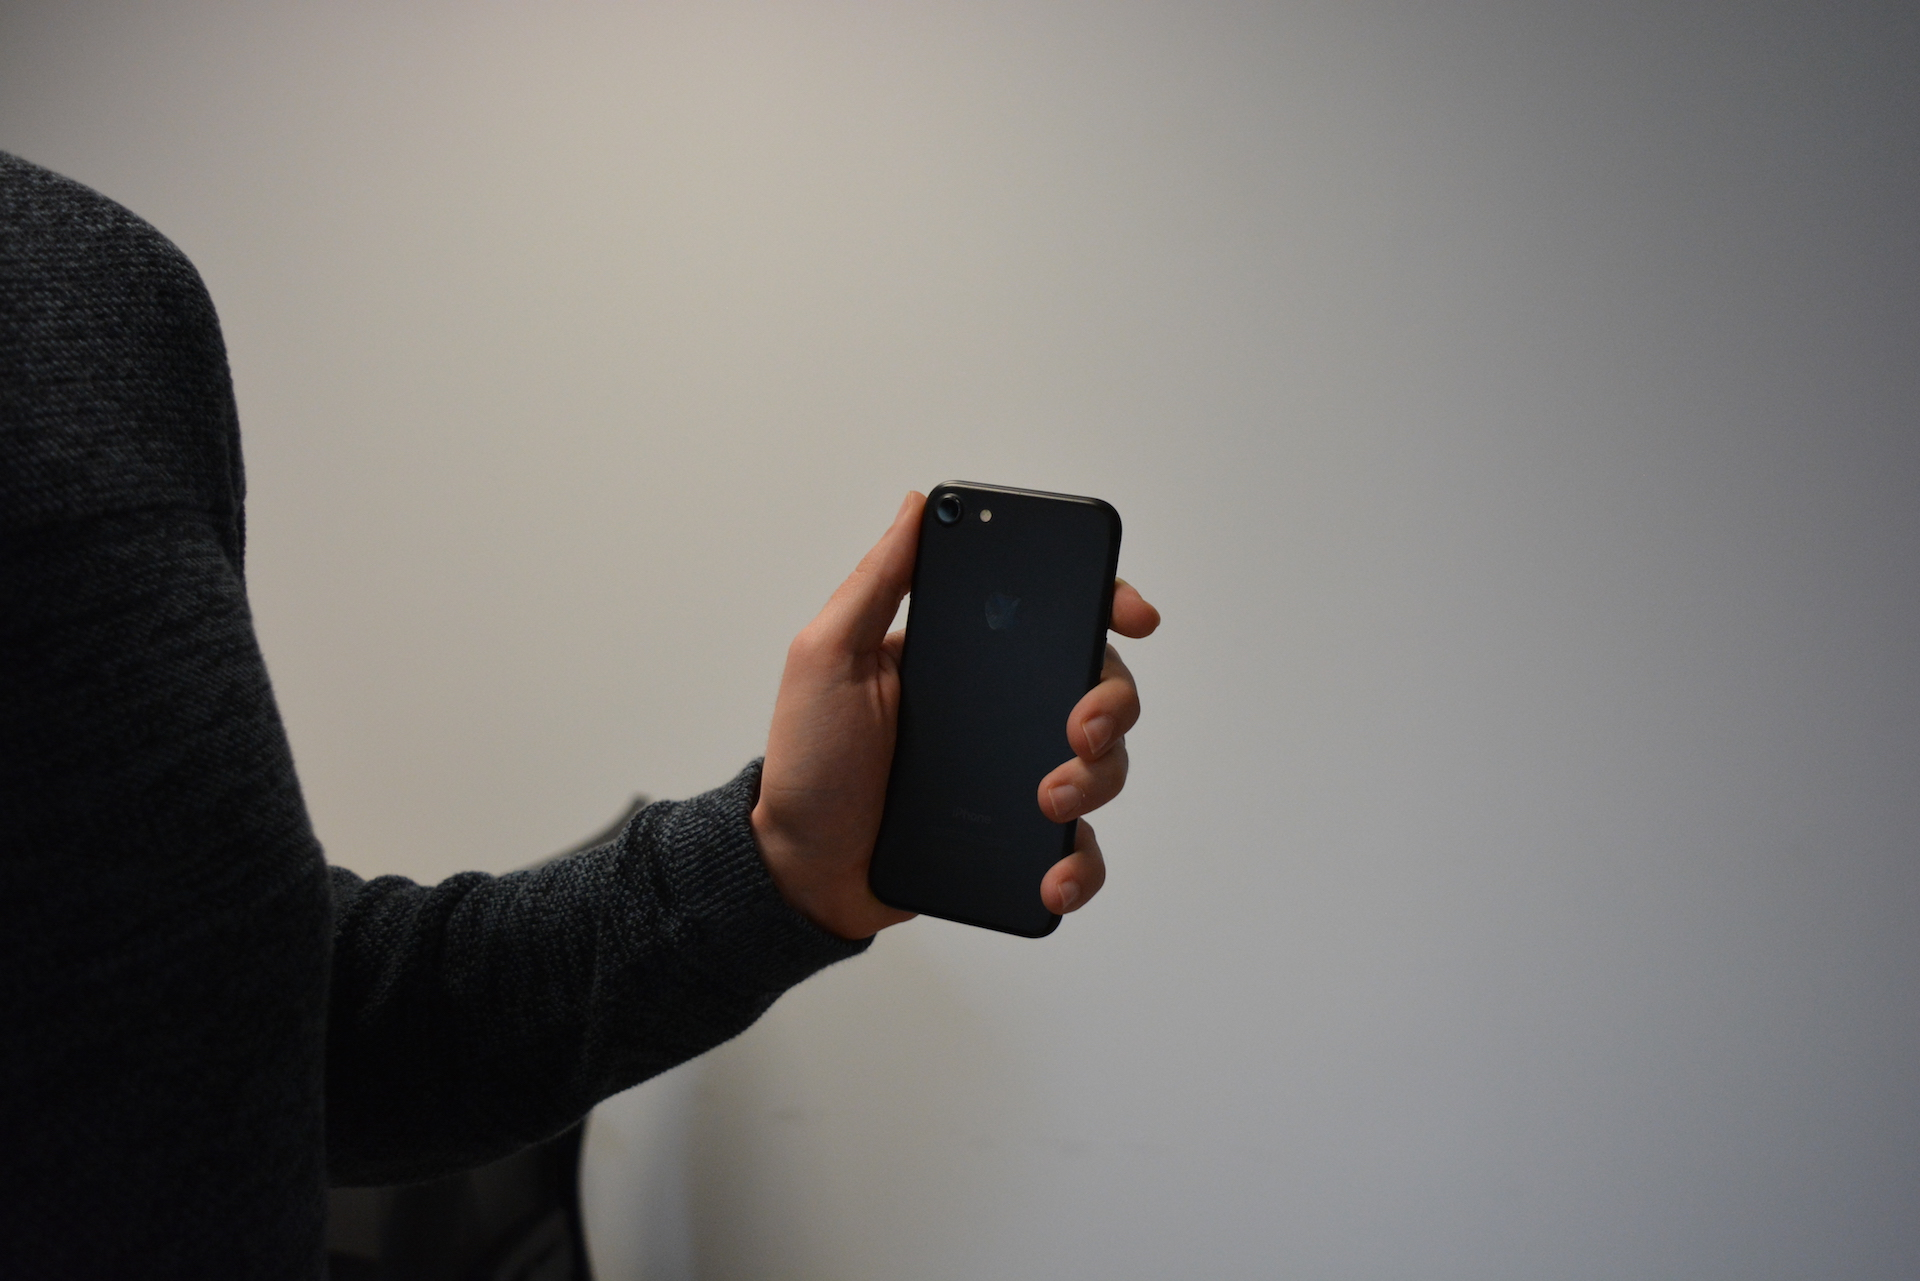smartphone: (865, 478, 1124, 939)
